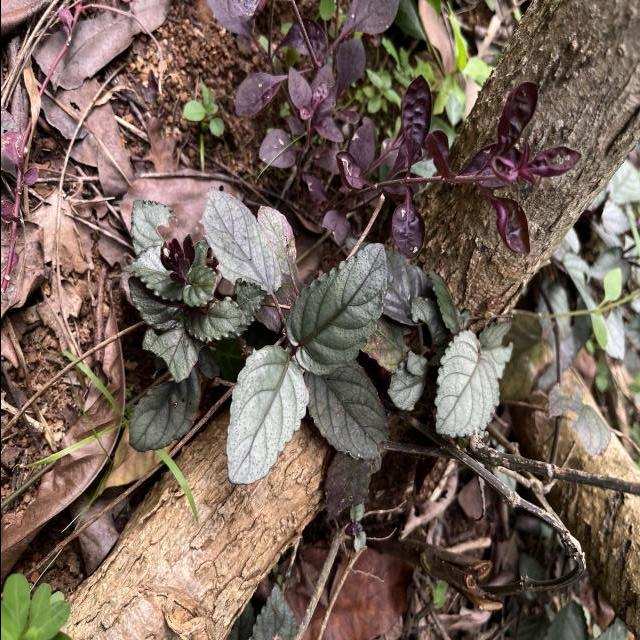Hemigraphis colorata: (282, 240, 389, 379), (223, 340, 311, 488), (196, 184, 290, 300), (304, 356, 396, 464), (429, 325, 504, 442)
